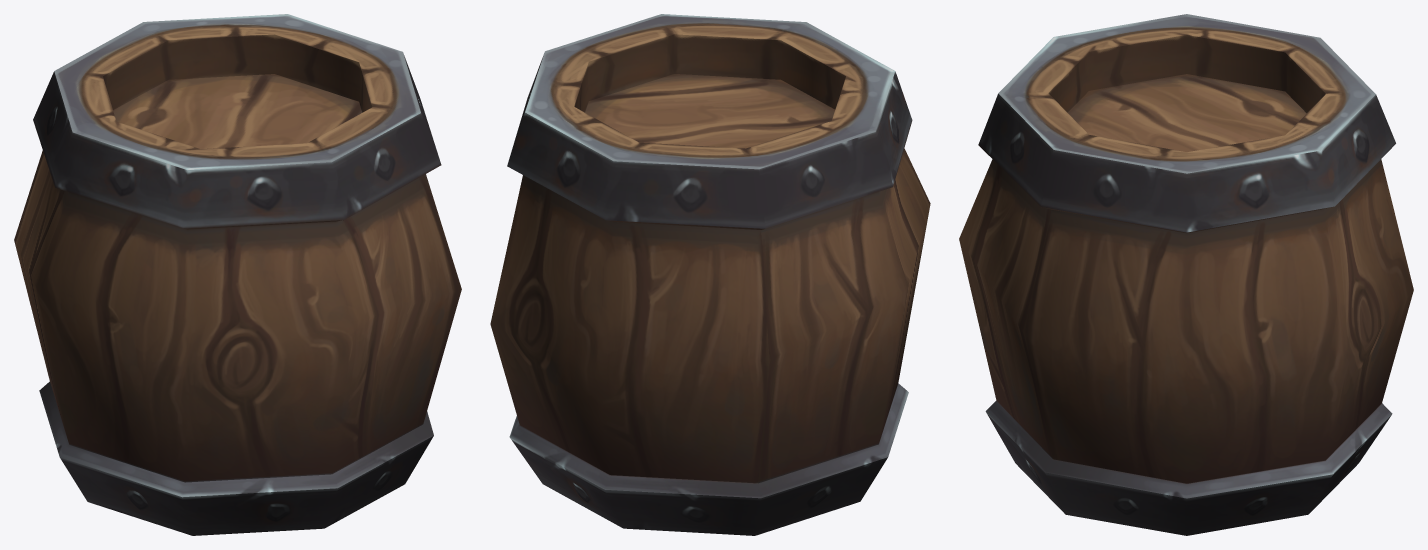
Rendered from barrel_05.fbx.
3 renders of one model, left to right at view 1: azimuth 30°, elevation 25°; view 2: azimuth 150°, elevation 25°; view 3: azimuth 270°, elevation 25°, orthographic.
Parts seen in each view (by area): view 1: barrel_05; view 2: barrel_05; view 3: barrel_05.
Part boxes in pixels (x1,y1,x2,y2): barrel_05: (14,14,461,535); barrel_05: (490,14,930,535); barrel_05: (959,14,1413,535).
Size of the model in its own units: 75.11 by 67.33 by 75.05.
